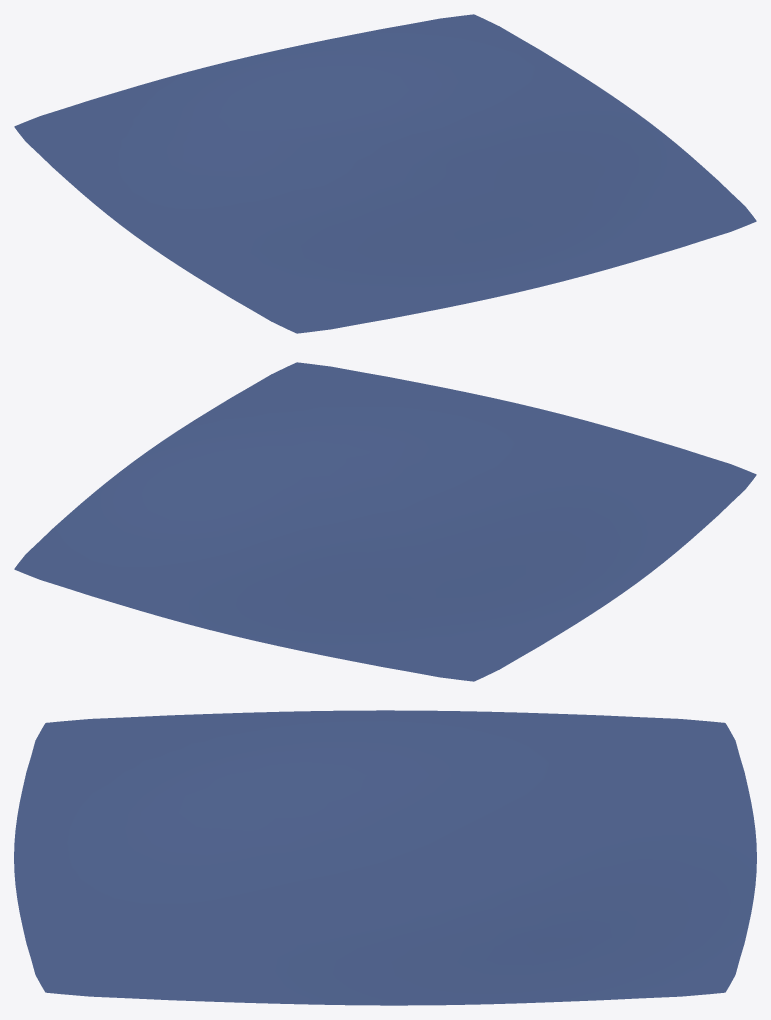
The model's file is Water_Plane_Medium_Pool.fbx.
3 renders of one model, top to bottom at view 1: azimuth 30°, elevation 25°; view 2: azimuth 150°, elevation 25°; view 3: azimuth 270°, elevation 25°, orthographic. The views are drawn at different scales.
Parts seen in each view (by area): view 1: Water_Plane_Medium_Pool; view 2: Water_Plane_Medium_Pool; view 3: Water_Plane_Medium_Pool.
Part boxes in pixels (x1,y1,x2,y2): Water_Plane_Medium_Pool: (14, 14, 756, 333); Water_Plane_Medium_Pool: (14, 362, 756, 681); Water_Plane_Medium_Pool: (14, 710, 756, 1005).
Bounding box in the file's own units: 1215 × 1295 × 17.53.
